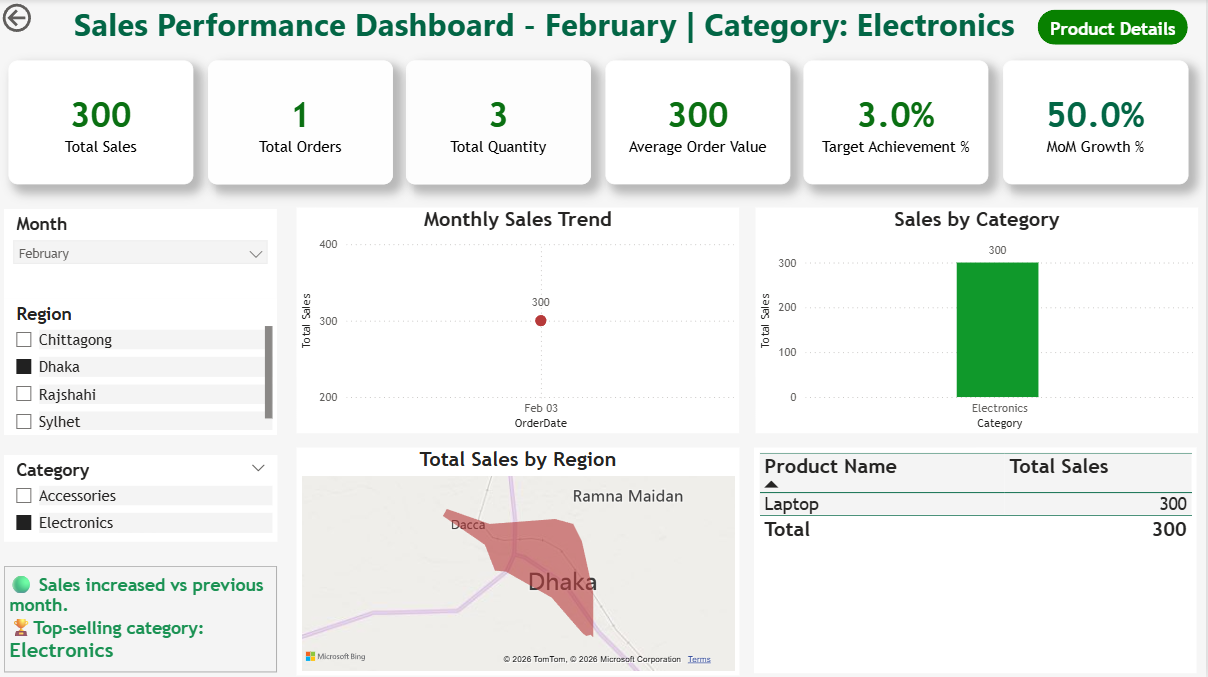

What the dashboard file says about the page in this screenshot:
{"tool":"powerbi","page":{"name":"Dashboard","canvas":[1280,720],"ordinal":0},"visuals":[{"type":"card","fields":{"Values":["Sales.Total Sales"]},"box":[10.4,65.7,196.2,131.4],"z":0,"group":"g1"},{"type":"clusteredColumnChart","title":"Sales by Category","fields":{"Category":["Products.Category"],"Y":["Sales.Total Sales"]},"box":[803.1,221.8,469.6,239.6],"z":0},{"type":"card","fields":{"Values":["Sales.Total Orders"]},"box":[221.3,65.7,196.2,131.4],"z":1000,"group":"g1"},{"type":"lineChart","title":"Monthly Sales Trend","fields":{"Category":["Sales.OrderDate.Variation.Date Hierarchy.Month"],"Y":["Sales.Total Sales"]},"box":[315.7,221.8,469.6,239.6],"z":1000},{"type":"card","fields":{"Values":["Sales.Total Quantity"]},"box":[432.3,65.7,196.2,131.4],"z":2000,"group":"g1"},{"type":"filledMap","fields":{"Category":["Customers.Region"]},"box":[315.7,475,469.6,241.3],"z":2000},{"type":"card","fields":{"Values":["Sales.Average Order Value"]},"box":[643.2,65.7,196.2,131.4],"z":3000,"group":"g1"},{"type":"tableEx","fields":{"Values":["Products.ProductName","Sales.Total Sales"]},"box":[801.5,475,469.6,239.6],"z":3000},{"type":"card","fields":{"Values":["Sales.Target Achievement %"]},"box":[854.2,65.7,196.2,131.4],"z":4000,"group":"g1"},{"type":"slicer","fields":{"Values":["DateTable.Month"]},"box":[6.3,222.1,289.4,95.4],"z":4000},{"type":"slicer","fields":{"Values":["Customers.Region"]},"box":[6.3,317.5,289.4,143.9],"z":5000},{"type":"textbox","box":[6.4,601.3,289.5,112.9],"z":6000},{"type":"slicer","fields":{"Values":["Products.Category"]},"box":[6.5,484.1,289.8,92.3],"z":7000},{"type":"actionButton","title":"Product Details","box":[1102.7,10.9,159.5,37.5],"z":8000},{"type":"card","fields":{"Values":["Sales.MoM Growth %"]},"box":[1065.1,65.7,196.6,131.4],"z":8002,"group":"g1"},{"type":"group","id":"g1","title":"Group 1","box":[10.4,65.7,1251.3,131.4],"z":9000},{"type":"actionButton","box":[0,0,100,40],"z":10000},{"type":"card","fields":{"Values":["Sales.Dynamic_Title"]},"box":[62.6,0,1033.9,51.6],"z":11000}]}

Visuals, with their boxes in screenshot pixels (x1, y1, x2, y2), scaled from the page's 1280x720 canvas onto the 1208x677 screenshot:
card - Sales.Total Sales: <box>10,62,195,185</box>
"Sales by Category" clusteredColumnChart: <box>758,209,1201,434</box>
card - Sales.Total Orders: <box>209,62,394,185</box>
"Monthly Sales Trend" lineChart: <box>298,209,741,434</box>
card - Sales.Total Quantity: <box>408,62,593,185</box>
filledMap - Customers.Region: <box>298,447,741,674</box>
card - Sales.Average Order Value: <box>607,62,792,185</box>
tableEx - Products.ProductName x Sales.Total Sales: <box>756,447,1200,672</box>
card - Sales.Target Achievement %: <box>806,62,991,185</box>
slicer - DateTable.Month: <box>6,209,279,299</box>
slicer - Customers.Region: <box>6,299,279,434</box>
textbox: <box>6,565,279,672</box>
slicer - Products.Category: <box>6,455,280,542</box>
"Product Details" actionButton: <box>1041,10,1191,46</box>
card - Sales.MoM Growth %: <box>1005,62,1191,185</box>
"Group 1" group: <box>10,62,1191,185</box>
actionButton: <box>0,0,94,38</box>
card - Sales.Dynamic_Title: <box>59,0,1035,49</box>
